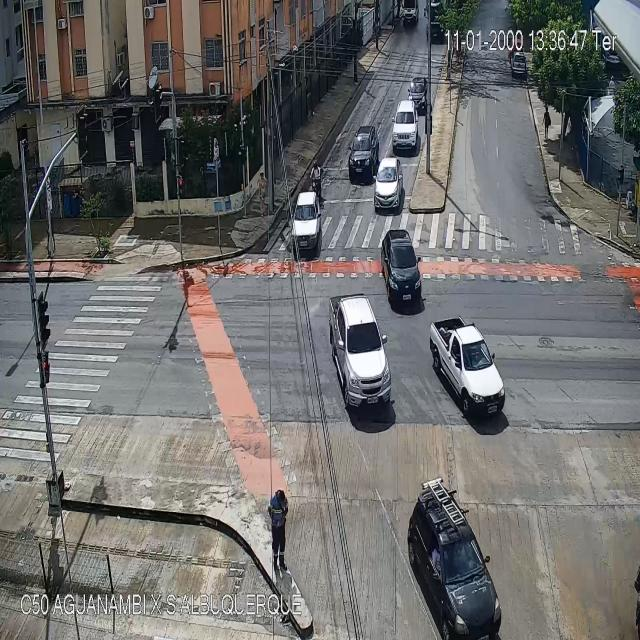Car: (407, 486, 502, 639), (429, 318, 505, 416), (328, 294, 391, 406), (382, 230, 422, 302), (292, 192, 320, 251), (348, 125, 376, 183), (373, 157, 403, 210), (393, 99, 417, 151), (408, 77, 427, 110), (401, 0, 417, 29), (512, 53, 526, 78)
Motorcycle: (310, 160, 323, 199)
Truck: (425, 0, 447, 43)
